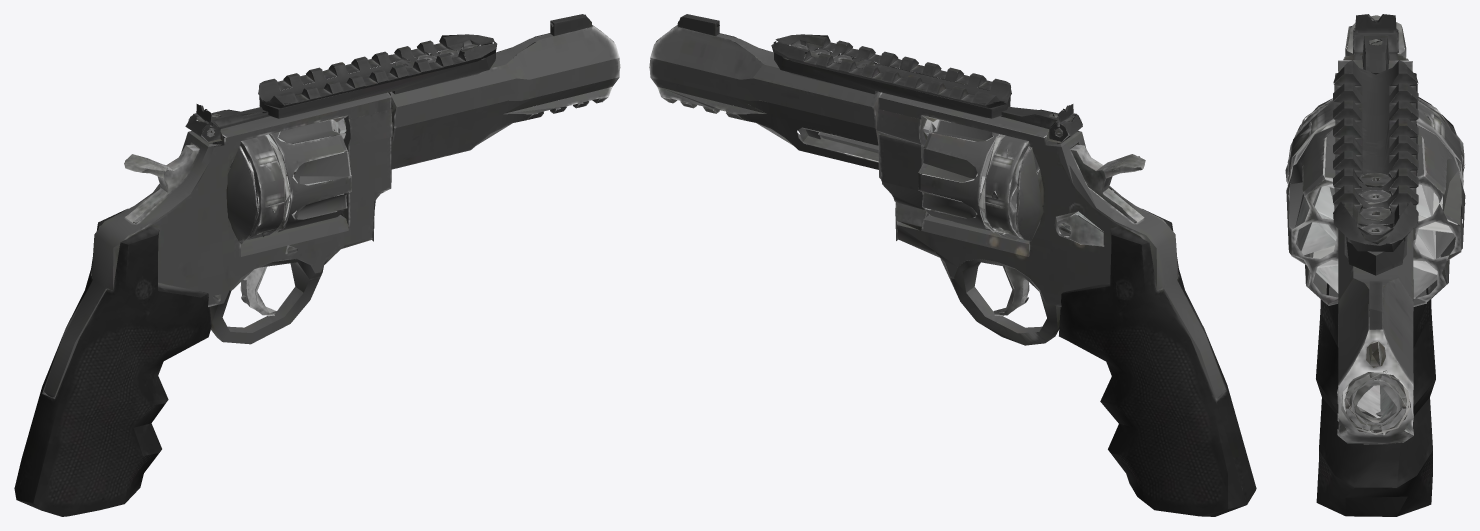
Rendered from revolver_med.glb.
3 renders of one model, left to right at view 1: azimuth 30°, elevation 25°; view 2: azimuth 150°, elevation 25°; view 3: azimuth 270°, elevation 25°, orthographic. The views are drawn at different scales.
Parts seen in each view (by area): view 1: body, cylinder; view 2: body, cylinder; view 3: body, cylinder.
Boxes of the visible parts, x1,y1,x2,y2 form: body: (14, 14, 620, 516); cylinder: (241, 120, 351, 240); body: (649, 14, 1256, 516); cylinder: (918, 120, 1028, 240); body: (1285, 14, 1464, 516); cylinder: (1286, 100, 1465, 306).
Size of the model in its own units: 0.2907 by 0.1756 by 0.049.
Materials: 1 (1 with a texture image).
